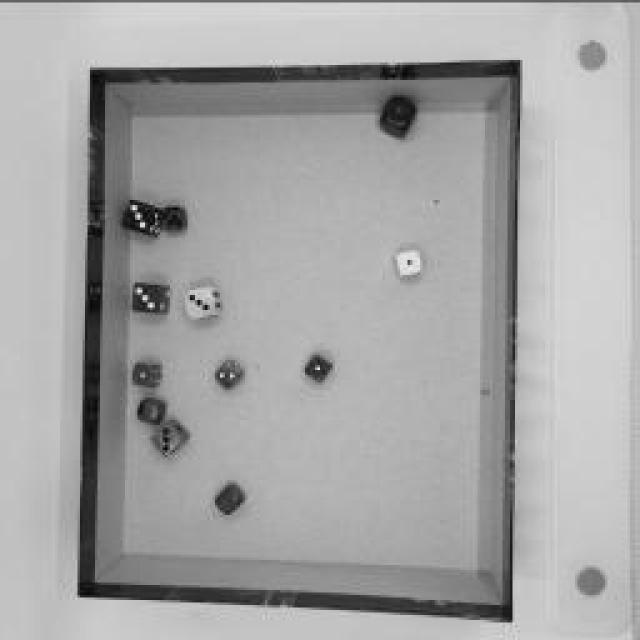dice_1: (379, 85, 429, 153), (206, 474, 252, 516), (302, 345, 336, 395), (390, 238, 422, 288), (131, 354, 169, 391), (138, 394, 172, 428)
dice_2: (212, 352, 246, 400)
dice_3: (148, 416, 202, 459), (122, 188, 162, 242), (131, 274, 174, 318), (184, 283, 228, 325), (158, 200, 192, 232)
